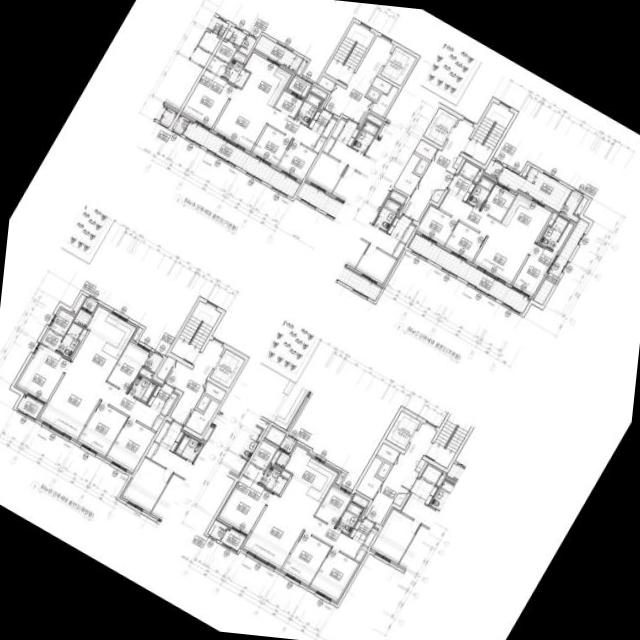background: (0, 0, 640, 640)
space_balconi: (408, 234, 529, 313), (182, 121, 300, 198), (533, 219, 588, 305), (497, 167, 571, 212), (254, 35, 302, 72), (16, 395, 43, 419), (220, 528, 245, 551), (287, 75, 311, 97), (224, 26, 246, 46)
space_bedroom: (512, 222, 573, 297), (181, 70, 235, 128), (218, 476, 271, 534), (16, 344, 69, 402), (77, 402, 127, 456), (105, 418, 155, 472), (309, 548, 358, 602), (281, 532, 330, 585), (106, 341, 149, 392), (251, 125, 291, 166), (277, 140, 317, 181), (416, 205, 457, 245), (444, 222, 485, 262), (314, 485, 352, 527), (480, 184, 515, 221)
space_dressroom: (243, 440, 277, 483), (41, 309, 74, 350), (206, 40, 236, 76)
space_elevator: (380, 46, 416, 86), (209, 349, 244, 388), (385, 411, 420, 450), (422, 107, 457, 146)
space_elevator_hall: (364, 423, 436, 525), (402, 119, 474, 221), (323, 35, 393, 124), (164, 340, 223, 425)
space_front: (147, 384, 177, 415), (308, 109, 336, 138), (447, 174, 475, 203), (349, 519, 373, 544)
space_kitchen: (71, 306, 135, 381), (279, 446, 338, 516), (241, 52, 290, 107), (501, 193, 551, 242)
space_living_room: (39, 362, 165, 439), (242, 494, 361, 569), (438, 193, 534, 284), (212, 88, 325, 152)
space_other: (185, 400, 218, 435), (393, 154, 420, 196), (356, 457, 382, 499), (370, 86, 398, 117), (274, 91, 302, 118), (537, 213, 556, 242), (70, 328, 87, 359), (376, 443, 399, 464), (156, 356, 175, 380), (414, 140, 436, 160), (205, 381, 225, 401), (207, 520, 227, 540), (144, 352, 163, 373), (459, 161, 479, 180), (371, 76, 392, 94), (238, 35, 256, 55), (265, 427, 285, 445), (484, 160, 503, 178), (73, 309, 91, 327), (317, 76, 335, 91), (71, 294, 85, 313), (363, 528, 377, 547), (574, 197, 588, 216), (269, 451, 282, 470), (196, 395, 210, 411), (414, 159, 428, 175), (275, 452, 289, 467), (377, 462, 390, 478), (354, 546, 367, 562), (295, 59, 307, 75), (393, 493, 407, 506), (430, 190, 444, 203), (352, 495, 367, 507), (310, 87, 326, 98), (414, 459, 425, 473), (452, 155, 463, 169), (367, 88, 379, 100), (139, 368, 152, 379), (232, 52, 245, 63), (132, 327, 142, 340), (473, 169, 482, 183), (521, 165, 530, 177), (335, 472, 344, 484), (280, 470, 291, 479)
space_outdoor_room: (560, 191, 582, 222), (171, 115, 189, 134), (279, 436, 295, 452), (82, 297, 97, 312)
space_staircase: (425, 405, 476, 468), (170, 301, 220, 364), (324, 22, 374, 85), (463, 102, 513, 165)
space_toilet: (539, 216, 567, 250), (294, 92, 322, 126), (467, 176, 494, 209), (336, 502, 363, 534), (57, 323, 82, 357), (128, 375, 156, 403), (222, 59, 249, 88), (259, 466, 286, 494)
